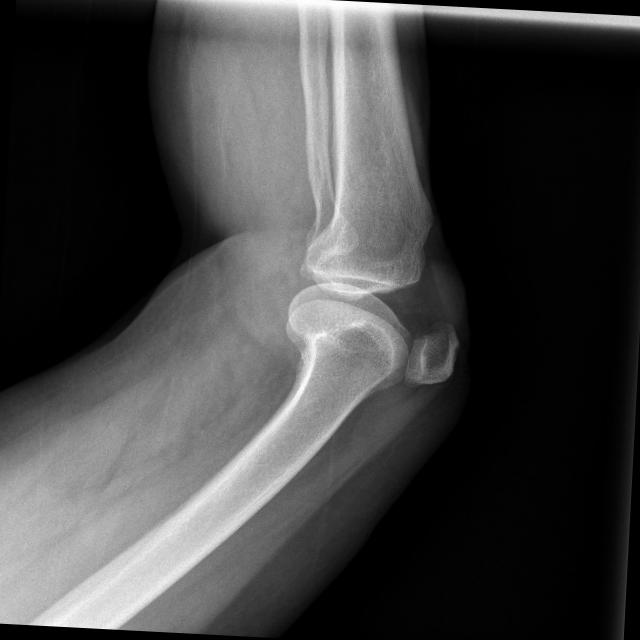Knee: (272, 210, 468, 396)
